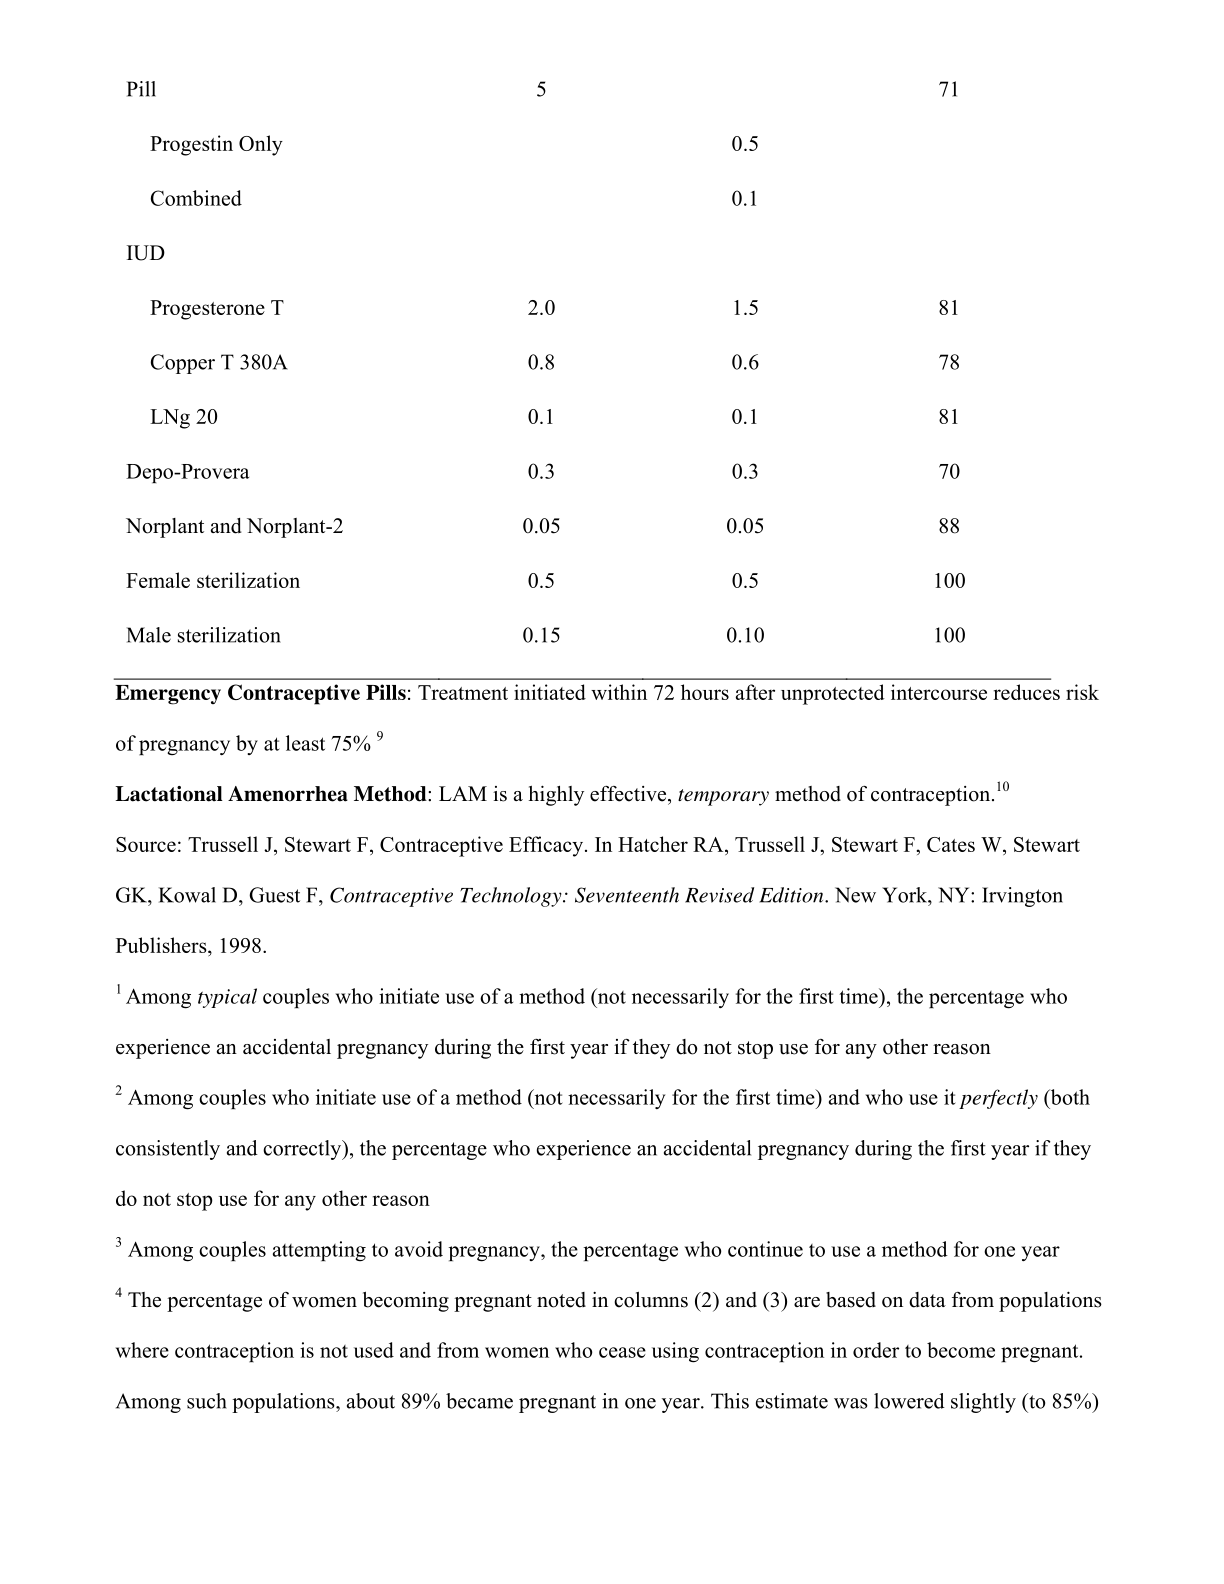nolines: (116, 69, 975, 652)
